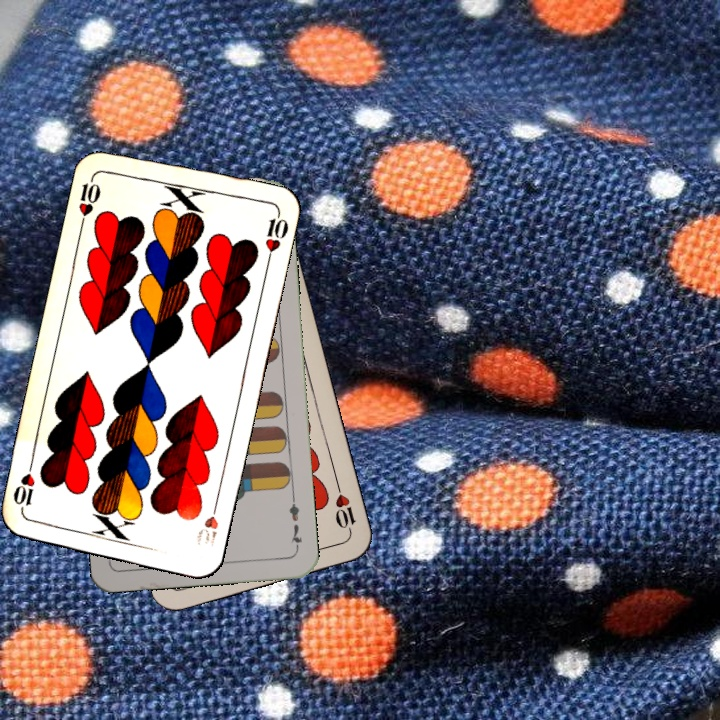E7: (285, 493, 305, 552)
H10: (74, 171, 103, 229), (331, 479, 359, 538), (193, 495, 221, 549)
